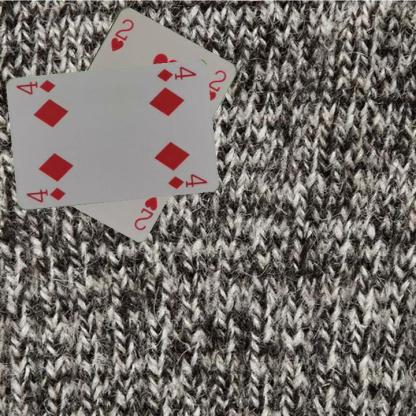2h: (131, 192, 159, 232), (108, 16, 135, 52)
4d: (154, 64, 198, 83), (24, 185, 66, 204)
